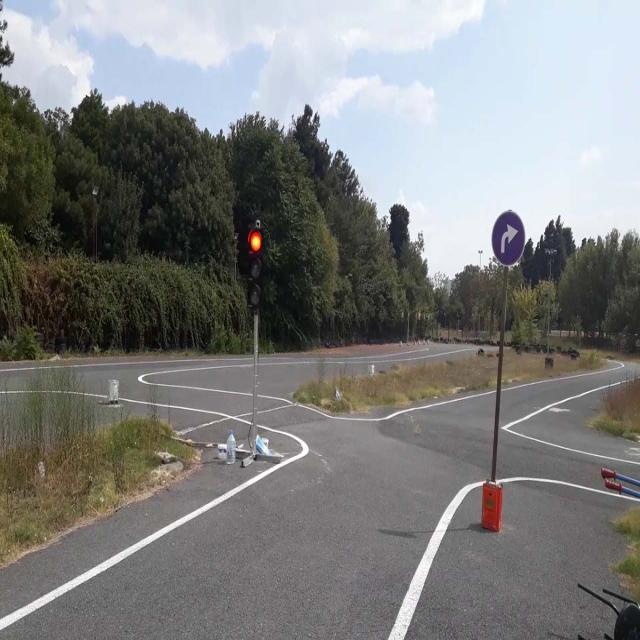kirmizi: (249, 226, 263, 306)
sag: (493, 211, 525, 265)
